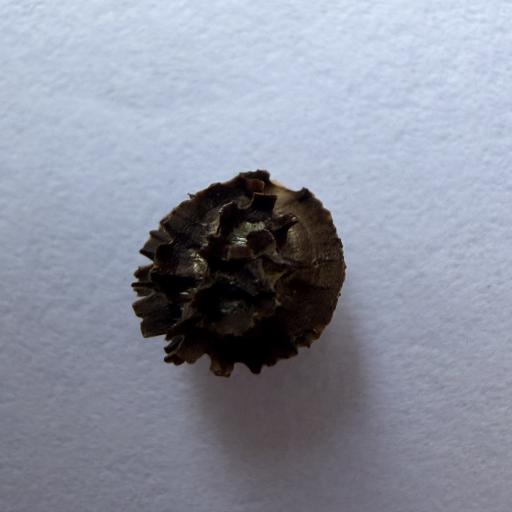papaya_seed: (127, 150, 380, 394)
